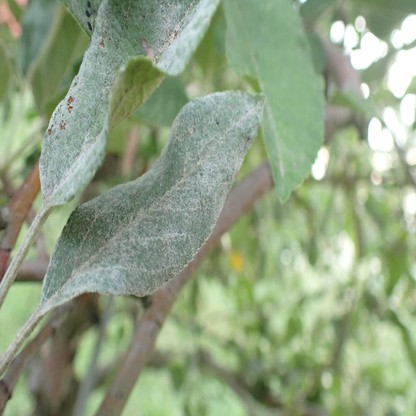powdery_mildew: (44, 89, 265, 296), (39, 2, 216, 198), (275, 143, 304, 178)
